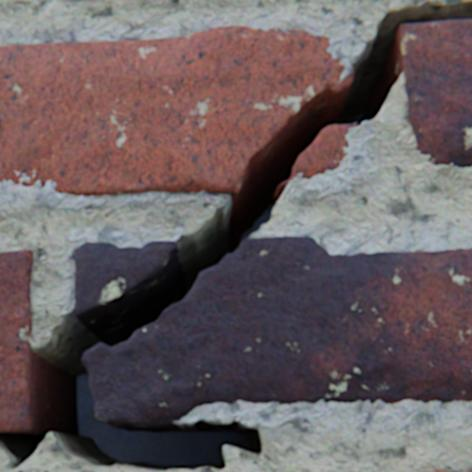brick: (399, 21, 471, 168), (0, 250, 33, 430), (424, 470, 448, 471)
broken_brick: (82, 237, 471, 423), (0, 27, 350, 196), (75, 241, 175, 315), (279, 126, 350, 186)
crack: (0, 0, 471, 470)
